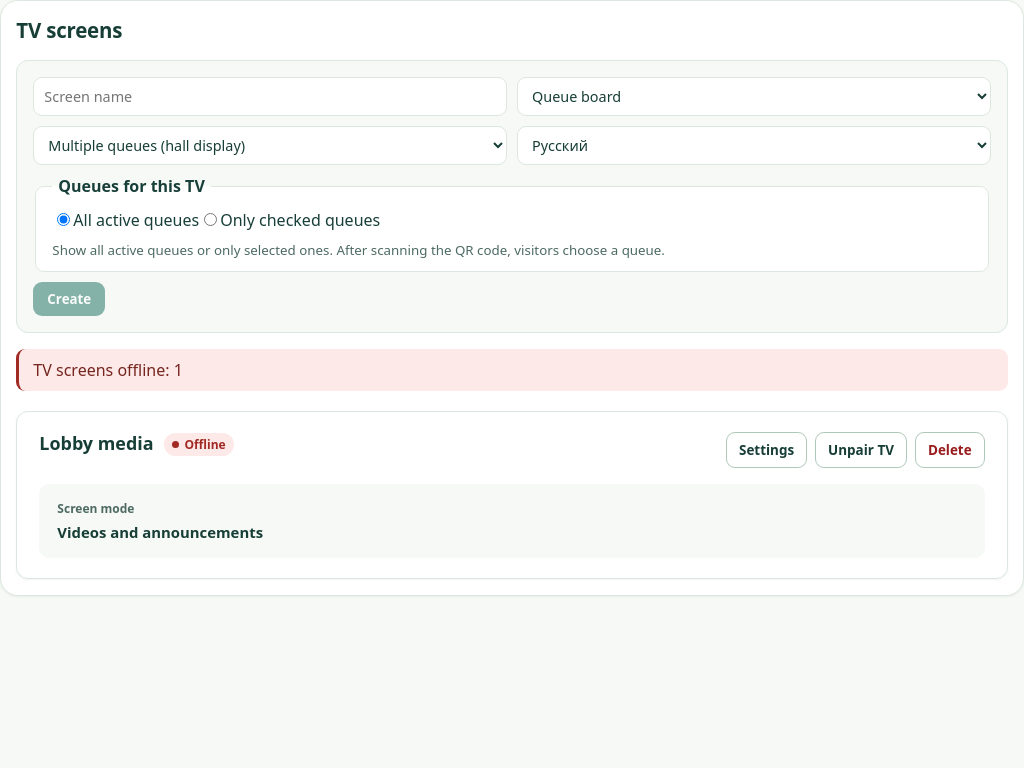
it: lets an admin rename a TV screen from its settings
Click the button "Settings": (767, 450) [726,432,807,468]
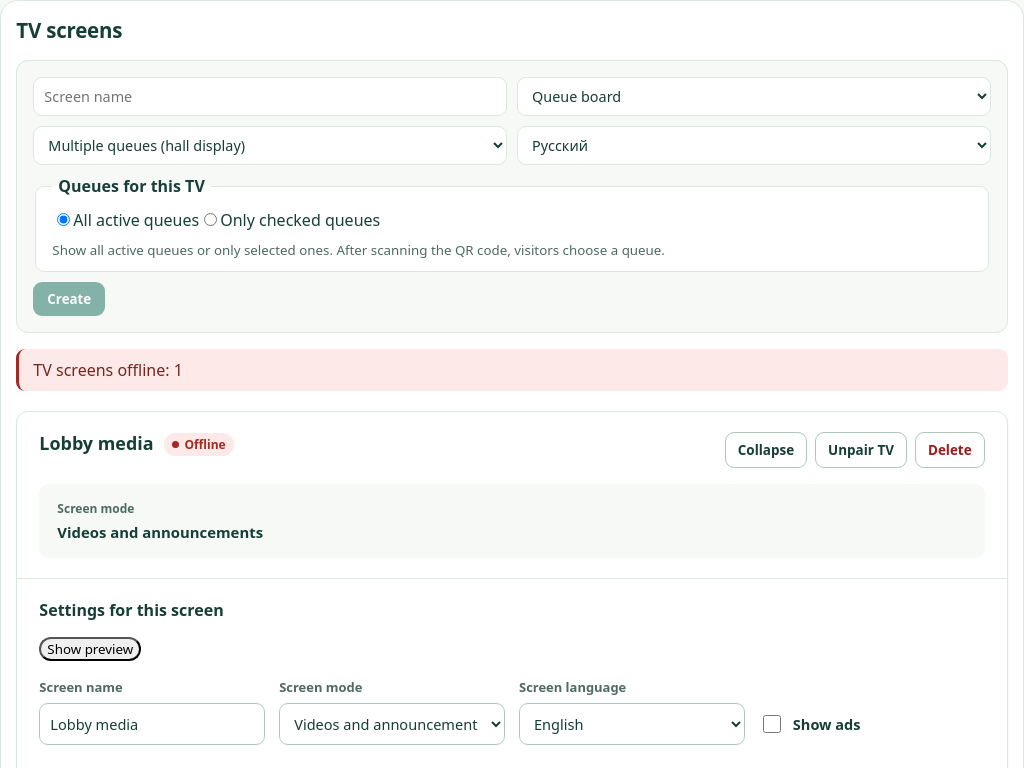
Replace the text in the field labelled "Screen name" in the row of "Show ads" with "Main lobby": (152, 724) [39,703,265,745]
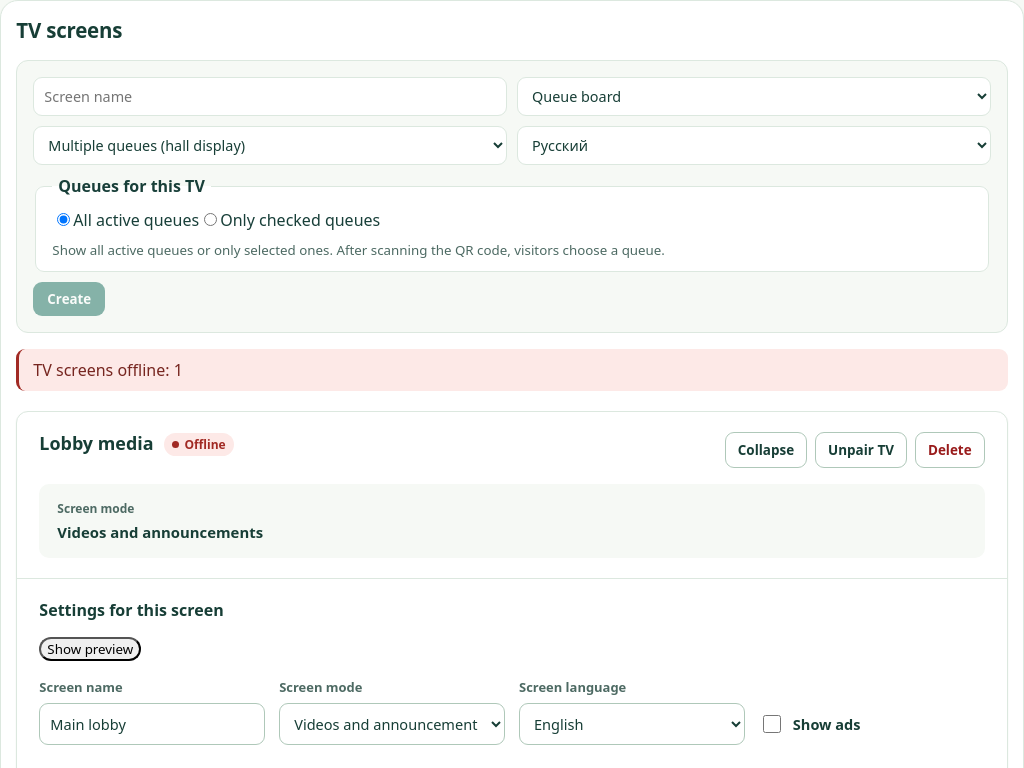
Leave the field labelled "Screen name" in the row of "Show ads", box [39,703,265,745]
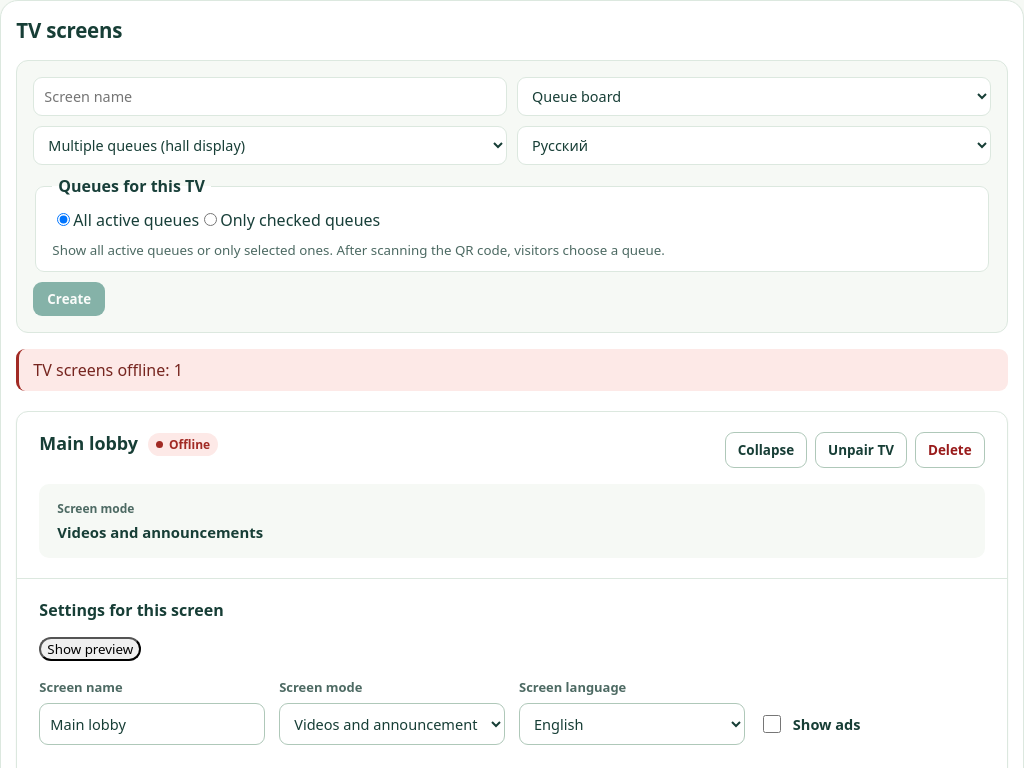
Expected: the heading "Main lobby" is shown, [39,432,138,456]
